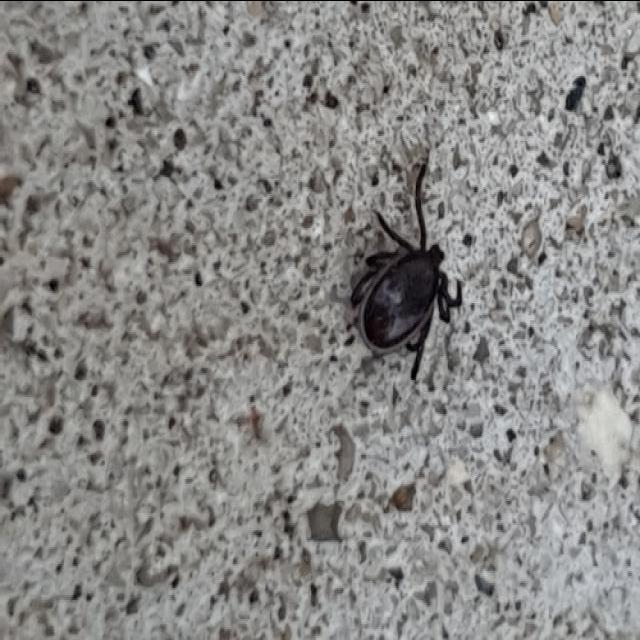Ixodes Ricinus-M: (349, 167, 461, 379)
